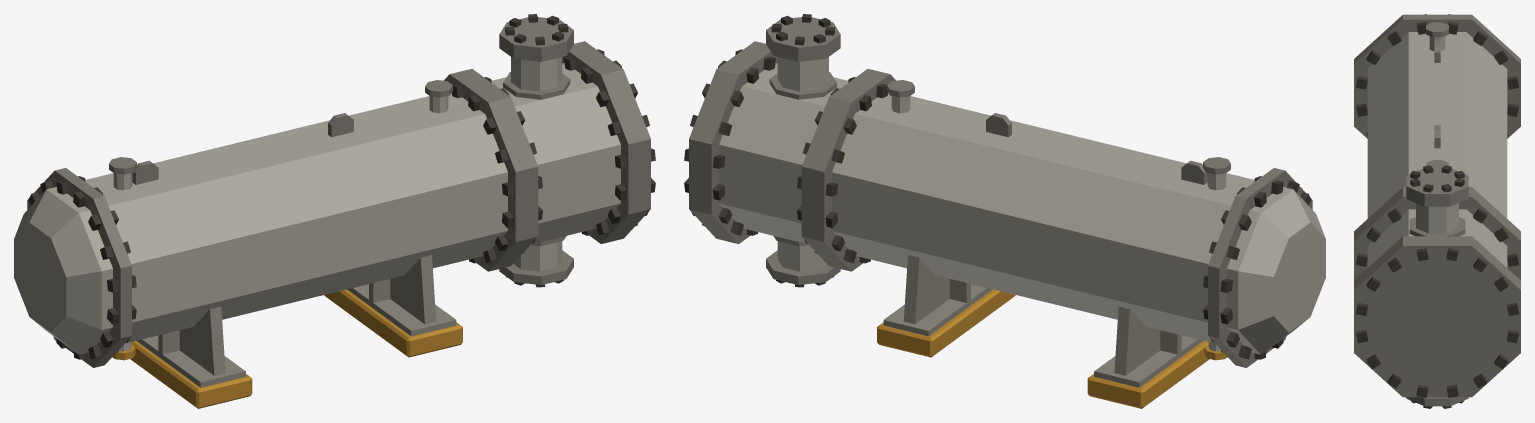
The model's file is HeatExchanger.fbx.
3 renders of one model, left to right at view 1: azimuth 30°, elevation 25°; view 2: azimuth 150°, elevation 25°; view 3: azimuth 270°, elevation 25°, orthographic. The views are drawn at different scales.
Parts seen in each view (by area): view 1: HeatExchanger_Shell, HeatExchanger_Flanges, HeatExchanger_Saddles, HeatExchanger_Bolts, HeatExchanger_Pads; view 2: HeatExchanger_Shell, HeatExchanger_Flanges, HeatExchanger_Saddles, HeatExchanger_Bolts, HeatExchanger_Pads; view 3: HeatExchanger_Flanges, HeatExchanger_Shell, HeatExchanger_Bolts.
Boxes of the visible parts, x1,y1,x2,y2 form: HeatExchanger_Shell: [14, 57, 620, 354]; HeatExchanger_Flanges: [27, 17, 650, 367]; HeatExchanger_Saddles: [136, 255, 456, 387]; HeatExchanger_Bolts: [28, 14, 655, 359]; HeatExchanger_Pads: [112, 289, 462, 408]; HeatExchanger_Shell: [719, 57, 1325, 354]; HeatExchanger_Flanges: [689, 17, 1312, 367]; HeatExchanger_Saddles: [883, 255, 1203, 387]; HeatExchanger_Bolts: [684, 14, 1311, 359]; HeatExchanger_Pads: [877, 289, 1227, 408]; HeatExchanger_Flanges: [1354, 14, 1520, 406]; HeatExchanger_Shell: [1367, 32, 1507, 267]; HeatExchanger_Bolts: [1356, 14, 1518, 408].
Bounding box in the file's own units: 1516 × 658 × 430.
